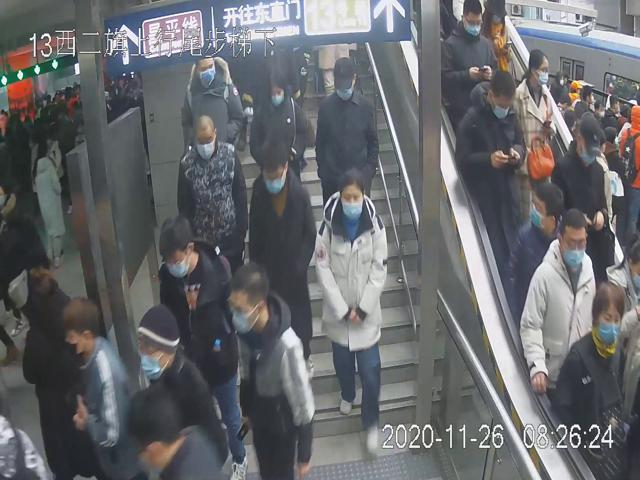person: (156, 214, 249, 480), (313, 164, 392, 461), (227, 251, 314, 480), (245, 137, 316, 375), (518, 206, 598, 394), (452, 65, 527, 252), (174, 110, 247, 287), (312, 53, 385, 211), (248, 59, 306, 182), (181, 48, 243, 160), (440, 1, 495, 114)
